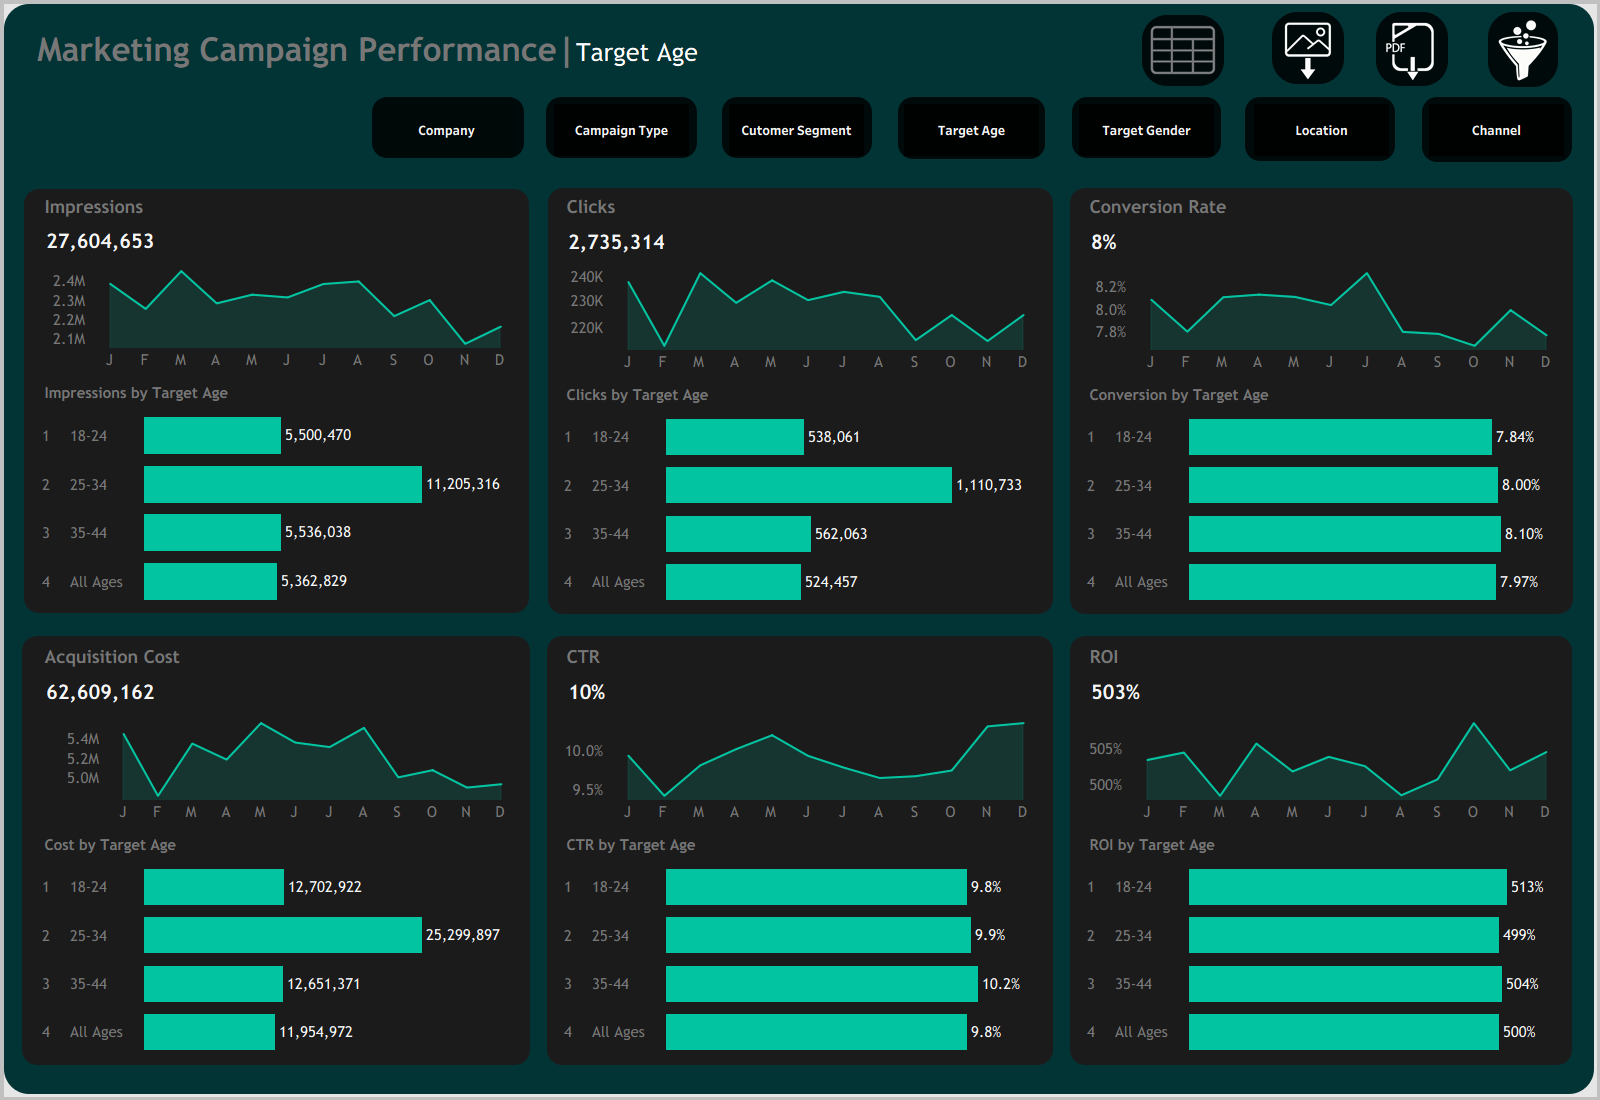

Layout of this report page (visuals, bound fields, positions):
{"tool":"tableau","page":{"name":"Target Age Page","canvas":[1600,1100],"ordinal":5},"visuals":[{"type":"worksheet","title":"Background Dashboard","mark":"Automatic","box":[0,0,1600,1100]},{"type":"blank","box":[0,0,1600,15]},{"type":"filter","title":"Clicks by Target Age","param":"[federated.1mnywug06xvtuc16vjv8v0i6xip0].[none:Channel_Used:nk]","box":[772,12,140.6,60]},{"type":"filter","title":"Clicks by Target Age","param":"[federated.1mnywug06xvtuc16vjv8v0i6xip0].[none:Company:nk]","box":[912.6,12,140.6,60]},{"type":"filter","title":"Clicks by Target Age","param":"[federated.1mnywug06xvtuc16vjv8v0i6xip0].[none:Calculation_1166370128986117:nk]","box":[1053.2,12,140.6,60]},{"type":"filter","title":"Clicks by Target Age","param":"[federated.1mnywug06xvtuc16vjv8v0i6xip0].[none:Target_Age:nk]","box":[1193.8,12,140.6,60]},{"type":"filter","title":"Clicks by Target Age","param":"[federated.1mnywug06xvtuc16vjv8v0i6xip0].[none:Target_Gender:nk]","box":[1334.4,12,140.6,60]},{"type":"text","box":[0,15,778,70]},{"type":"blank","box":[778,15,366,70]},{"type":"dashboard-object","box":[1144,15,77,70]},{"type":"blank","box":[1221,15,50,70]},{"type":"dashboard-object","box":[1271,15,73,70]},{"type":"blank","box":[1344,15,30,70]},{"type":"dashboard-object","box":[1374,15,70,70]},{"type":"blank","box":[1444,15,43,70]},{"type":"dashboard-object","box":[1487,15,70,70]},{"type":"blank","box":[1557,15,43,70]},{"type":"blank","box":[0,85,1600,15]},{"type":"blank","box":[0,90,4,207]},{"type":"dashboard-object","box":[4,90,39,35]},{"type":"text","box":[43,90,38,35]},{"type":"blank","box":[81,90,5,207]},{"type":"dashboard-object","box":[86,90,31,33]},{"type":"text","box":[117,90,161,33]},{"type":"blank","box":[278,90,5,207]},{"type":"dashboard-object","box":[283,90,30,33]},{"type":"text","box":[313,90,155,33]},{"type":"blank","box":[468,90,5,207]},{"type":"dashboard-object","box":[473,90,31,33]},{"type":"text","box":[504,90,119,33]},{"type":"blank","box":[623,90,5,207]},{"type":"dashboard-object","box":[628,90,31,33]},{"type":"text","box":[659.1,90,158,33]},{"type":"blank","box":[817.1,90,5,207]},{"type":"dashboard-object","box":[822.1,90,30,30]},{"type":"text","box":[852.1,90,144,30]},{"type":"blank","box":[996.1,90,5,207]},{"type":"dashboard-object","box":[1001.1,90,30,30]},{"type":"text","box":[1031.1,90,169,30]},{"type":"blank","box":[1200.1,90,5,207]},{"type":"dashboard-object","box":[1205.1,90,30,30]},{"type":"text","box":[1235.1,90,154,30]},{"type":"blank","box":[1389.1,90,5,207]},{"type":"dashboard-object","box":[1394.1,90,30,30]},{"type":"text","box":[1424.1,90,142,30]},{"type":"blank","box":[1566.1,90,30,207]},{"type":"blank","box":[0,100,343,60]},{"type":"blank","box":[343,100,32,60]},{"type":"dashboard-object","box":[375,100,143,60]},{"type":"blank","box":[518,100,32,60]},{"type":"dashboard-object","box":[550,100,143,60]},{"type":"blank","box":[693,100,32,60]},{"type":"dashboard-object","box":[725,100,143,60]},{"type":"blank","box":[868,100,32,60]},{"type":"dashboard-object","box":[900,100,143,60]},{"type":"blank","box":[1043,100,32,60]},{"type":"dashboard-object","box":[1075,100,143,60]},{"type":"blank","box":[1218,100,32,60]},{"type":"dashboard-object","box":[1250,100,143,60]},{"type":"blank","box":[1393,100,32,60]},{"type":"dashboard-object","box":[1425,100,143,60]},{"type":"blank","box":[1568,100,32,60]},{"type":"filter","title":"Detailed_Table","param":"[federated.1mnywug06xvtuc16vjv8v0i6xip0].[none:Channel_Used:nk]","box":[822.1,120,174,58]},{"type":"filter","title":"Detailed_Table","param":"[federated.1mnywug06xvtuc16vjv8v0i6xip0].[usr:Calculation_1851639007813637:qk]","box":[1001.1,120,199,51]},{"type":"filter","title":"Detailed_Table","param":"[federated.1mnywug06xvtuc16vjv8v0i6xip0].[usr:Calculation_1851639006334976:qk]","box":[1205.1,120,184,33]},{"type":"filter","title":"Detailed_Table","param":"[federated.1mnywug06xvtuc16vjv8v0i6xip0].[usr:Calculation_1851639007145986:qk]","box":[1394.1,120,172,51]},{"type":"filter","title":"Detailed_Table","param":"[federated.1mnywug06xvtuc16vjv8v0i6xip0].[none:Company:nk]","box":[86,123,192,58]},{"type":"filter","title":"Detailed_Table","param":"[federated.1mnywug06xvtuc16vjv8v0i6xip0].[none:Customer_Segment:nk]","box":[283,123,185,58]},{"type":"filter","title":"Detailed_Table","param":"[federated.1mnywug06xvtuc16vjv8v0i6xip0].[tdy:Date:qk]","box":[473,123,150,68]},{"type":"filter","title":"Detailed_Table","param":"[federated.1mnywug06xvtuc16vjv8v0i6xip0].[none:Calculation_1166370128986117:nk]","box":[628,123,189,58]},{"type":"filter","title":"Detailed_Table","param":"[federated.1mnywug06xvtuc16vjv8v0i6xip0].[none:Campaign_ID (Dim!Campaign):nk]","box":[4,125,77,35]},{"type":"blank","box":[0,160,32,932]},{"type":"blank","box":[32,160,490,32]},{"type":"blank","box":[522,160,32,932]},{"type":"blank","box":[554.1,160,490.9,32]},{"type":"blank","box":[1045,160,32,932]},{"type":"blank","box":[1077,160,490.9,32]},{"type":"blank","box":[1567.9,160,32,932]},{"type":"filter","title":"Detailed_Table","param":"[federated.1mnywug06xvtuc16vjv8v0i6xip0].[none:Campaign_Type:nk]","box":[86,181,192,58]},{"type":"filter","title":"Detailed_Table","param":"[federated.1mnywug06xvtuc16vjv8v0i6xip0].[none:Target_Age:nk]","box":[283,181,185,58]},{"type":"filter","title":"Detailed_Table","param":"[federated.1mnywug06xvtuc16vjv8v0i6xip0].[none:Location:nk]","box":[628,181,189,58]},{"type":"filter","title":"Detailed_Table","param":"[federated.1mnywug06xvtuc16vjv8v0i6xip0].[none:Weekday:nk]","box":[473,191,150,58]},{"type":"text","box":[32,192,490,29]},{"type":"text","box":[554.1,192,490.9,29]},{"type":"text","box":[1077,192,490.9,29]},{"type":"worksheet","title":"BAN Impressions","mark":"Automatic","box":[32,221,490,41]},{"type":"worksheet","title":"BAN Clicks","mark":"Automatic","box":[554.1,221,490.9,43]},{"type":"worksheet","title":"BAN Conversion","mark":"Automatic","box":[1077,221,490.9,43]},{"type":"filter","title":"Detailed_Table","param":"[federated.1mnywug06xvtuc16vjv8v0i6xip0].[none:Target_Gender:nk]","box":[283,239,185,58]},{"type":"worksheet","title":"Impressions by Year","mark":"Line","rows":["Calculation_1851639006334976","Calculation_1851639006334976"],"cols":["Date"],"box":[32,262,490,112]},{"type":"worksheet","title":"Clicks by Year","mark":"Line","rows":["Calculation_1851639006855169","Calculation_1851639006855169"],"cols":["Date"],"box":[554.1,264,490.9,112]},{"type":"worksheet","title":"Conversion by Year","mark":"Line","rows":["Calculation_1851639007629316","Calculation_1851639007629316"],"cols":["Date"],"box":[1077,264,490.9,112]},{"type":"worksheet","title":"Detailed_Table","mark":"Shape","rows":["Campaign_ID (Dim!Campaign)"],"cols":["Calculation_2238670781300739","Calculation_2238670781300739","Calculation_2238670781300739","Calculation_2238670781300739","Calculation_2238670781300739","Calculation_2238670781300739","Calculation_2238670781300739","Calculation_2238670781300739"],"box":[0,297,1600,803]},{"type":"worksheet","title":"Impressions by Target Age","mark":"Bar","rows":["Calculation_1166370116337667","Target_Age"],"cols":["Calculation_1851639006334976"],"box":[32,374,490,236]},{"type":"worksheet","title":"Clicks by Target Age","mark":"Bar","rows":["Calculation_1166370116337667","Target_Age"],"cols":["Calculation_1851639006855169"],"box":[554.1,376,490.9,234]},{"type":"worksheet","title":"Conversion by Target Age","mark":"Bar","rows":["Calculation_1166370116337667","Target_Age"],"cols":["Calculation_1851639007629316"],"box":[1077,376,490.9,234]},{"type":"blank","box":[32,610,490,32]},{"type":"blank","box":[554.1,610,490.9,32]},{"type":"blank","box":[1077,610,490.9,32]},{"type":"text","box":[32,642,490,29]},{"type":"text","box":[554.1,642,490.9,29]},{"type":"text","box":[1077,642,490.9,29]},{"type":"worksheet","title":"BAN Cost","mark":"Automatic","box":[32,671,490,43]},{"type":"worksheet","title":"BAN CTR","mark":"Automatic","box":[554.1,671,490.9,43]},{"type":"worksheet","title":"BAN ROI","mark":"Automatic","box":[1077,671,490.9,43]},{"type":"worksheet","title":"Cost by Year","mark":"Line","rows":["Calculation_1851639007813637","Calculation_1851639007813637"],"cols":["Date"],"box":[32,714,490,112]},{"type":"worksheet","title":"CTR by Year","mark":"Line","rows":["Calculation_1851639007145986","Calculation_1851639007145986"],"cols":["Date"],"box":[554.1,714,490.9,112]},{"type":"worksheet","title":"ROI by Year","mark":"Line","rows":["Calculation_1851639007985670","Calculation_1851639007985670"],"cols":["Date"],"box":[1077,714,490.9,112]},{"type":"worksheet","title":"Cost by Target Age","mark":"Bar","rows":["Calculation_1166370116337667","Target_Age"],"cols":["Calculation_1851639007813637"],"box":[32,826,490,234]},{"type":"worksheet","title":"CTR by Target Age","mark":"Bar","rows":["Calculation_1166370116337667","Target_Age"],"cols":["Calculation_1851639007145986"],"box":[554.1,826,490.9,234]},{"type":"worksheet","title":"ROI by Target Age","mark":"Bar","rows":["Calculation_1166370116337667","Target_Age"],"cols":["Calculation_1851639007985670"],"box":[1077,826,490.9,234]},{"type":"blank","box":[32,1060,490,32]},{"type":"blank","box":[554.1,1060,490.9,32]},{"type":"blank","box":[1077,1060,490.9,32]}]}

Visuals, with their boxes in screenshot pixels (x1, y1, x2, y2), scaled from the page's 1600x1100 canvas onto the 1600x1100 screenshot:
"Background Dashboard" worksheet: BBox(0, 0, 1599, 1099)
blank: BBox(0, 0, 1599, 15)
"Clicks by Target Age" filter: BBox(772, 12, 913, 72)
"Clicks by Target Age" filter: BBox(913, 12, 1053, 72)
"Clicks by Target Age" filter: BBox(1053, 12, 1194, 72)
"Clicks by Target Age" filter: BBox(1194, 12, 1334, 72)
"Clicks by Target Age" filter: BBox(1334, 12, 1475, 72)
text: BBox(0, 15, 778, 85)
blank: BBox(778, 15, 1144, 85)
dashboard-object: BBox(1144, 15, 1221, 85)
blank: BBox(1221, 15, 1271, 85)
dashboard-object: BBox(1271, 15, 1344, 85)
blank: BBox(1344, 15, 1374, 85)
dashboard-object: BBox(1374, 15, 1444, 85)
blank: BBox(1444, 15, 1487, 85)
dashboard-object: BBox(1487, 15, 1557, 85)
blank: BBox(1557, 15, 1599, 85)
blank: BBox(0, 85, 1599, 100)
blank: BBox(0, 90, 4, 297)
dashboard-object: BBox(4, 90, 43, 125)
text: BBox(43, 90, 81, 125)
blank: BBox(81, 90, 86, 297)
dashboard-object: BBox(86, 90, 117, 123)
text: BBox(117, 90, 278, 123)
blank: BBox(278, 90, 283, 297)
dashboard-object: BBox(283, 90, 313, 123)
text: BBox(313, 90, 468, 123)
blank: BBox(468, 90, 473, 297)
dashboard-object: BBox(473, 90, 504, 123)
text: BBox(504, 90, 623, 123)
blank: BBox(623, 90, 628, 297)
dashboard-object: BBox(628, 90, 659, 123)
text: BBox(659, 90, 817, 123)
blank: BBox(817, 90, 822, 297)
dashboard-object: BBox(822, 90, 852, 120)
text: BBox(852, 90, 996, 120)
blank: BBox(996, 90, 1001, 297)
dashboard-object: BBox(1001, 90, 1031, 120)
text: BBox(1031, 90, 1200, 120)
blank: BBox(1200, 90, 1205, 297)
dashboard-object: BBox(1205, 90, 1235, 120)
text: BBox(1235, 90, 1389, 120)
blank: BBox(1389, 90, 1394, 297)
dashboard-object: BBox(1394, 90, 1424, 120)
text: BBox(1424, 90, 1566, 120)
blank: BBox(1566, 90, 1596, 297)
blank: BBox(0, 100, 343, 160)
blank: BBox(343, 100, 375, 160)
dashboard-object: BBox(375, 100, 518, 160)
blank: BBox(518, 100, 550, 160)
dashboard-object: BBox(550, 100, 693, 160)
blank: BBox(693, 100, 725, 160)
dashboard-object: BBox(725, 100, 868, 160)
blank: BBox(868, 100, 900, 160)
dashboard-object: BBox(900, 100, 1043, 160)
blank: BBox(1043, 100, 1075, 160)
dashboard-object: BBox(1075, 100, 1218, 160)
blank: BBox(1218, 100, 1250, 160)
dashboard-object: BBox(1250, 100, 1393, 160)
blank: BBox(1393, 100, 1425, 160)
dashboard-object: BBox(1425, 100, 1568, 160)
blank: BBox(1568, 100, 1599, 160)
"Detailed_Table" filter: BBox(822, 120, 996, 178)
"Detailed_Table" filter: BBox(1001, 120, 1200, 171)
"Detailed_Table" filter: BBox(1205, 120, 1389, 153)
"Detailed_Table" filter: BBox(1394, 120, 1566, 171)
"Detailed_Table" filter: BBox(86, 123, 278, 181)
"Detailed_Table" filter: BBox(283, 123, 468, 181)
"Detailed_Table" filter: BBox(473, 123, 623, 191)
"Detailed_Table" filter: BBox(628, 123, 817, 181)
"Detailed_Table" filter: BBox(4, 125, 81, 160)
blank: BBox(0, 160, 32, 1092)
blank: BBox(32, 160, 522, 192)
blank: BBox(522, 160, 554, 1092)
blank: BBox(554, 160, 1045, 192)
blank: BBox(1045, 160, 1077, 1092)
blank: BBox(1077, 160, 1568, 192)
blank: BBox(1568, 160, 1599, 1092)
"Detailed_Table" filter: BBox(86, 181, 278, 239)
"Detailed_Table" filter: BBox(283, 181, 468, 239)
"Detailed_Table" filter: BBox(628, 181, 817, 239)
"Detailed_Table" filter: BBox(473, 191, 623, 249)
text: BBox(32, 192, 522, 221)
text: BBox(554, 192, 1045, 221)
text: BBox(1077, 192, 1568, 221)
"BAN Impressions" worksheet: BBox(32, 221, 522, 262)
"BAN Clicks" worksheet: BBox(554, 221, 1045, 264)
"BAN Conversion" worksheet: BBox(1077, 221, 1568, 264)
"Detailed_Table" filter: BBox(283, 239, 468, 297)
"Impressions by Year" worksheet (Line marks): BBox(32, 262, 522, 374)
"Clicks by Year" worksheet (Line marks): BBox(554, 264, 1045, 376)
"Conversion by Year" worksheet (Line marks): BBox(1077, 264, 1568, 376)
"Detailed_Table" worksheet (Shape marks): BBox(0, 297, 1599, 1099)
"Impressions by Target Age" worksheet (Bar marks): BBox(32, 374, 522, 610)
"Clicks by Target Age" worksheet (Bar marks): BBox(554, 376, 1045, 610)
"Conversion by Target Age" worksheet (Bar marks): BBox(1077, 376, 1568, 610)
blank: BBox(32, 610, 522, 642)
blank: BBox(554, 610, 1045, 642)
blank: BBox(1077, 610, 1568, 642)
text: BBox(32, 642, 522, 671)
text: BBox(554, 642, 1045, 671)
text: BBox(1077, 642, 1568, 671)
"BAN Cost" worksheet: BBox(32, 671, 522, 714)
"BAN CTR" worksheet: BBox(554, 671, 1045, 714)
"BAN ROI" worksheet: BBox(1077, 671, 1568, 714)
"Cost by Year" worksheet (Line marks): BBox(32, 714, 522, 826)
"CTR by Year" worksheet (Line marks): BBox(554, 714, 1045, 826)
"ROI by Year" worksheet (Line marks): BBox(1077, 714, 1568, 826)
"Cost by Target Age" worksheet (Bar marks): BBox(32, 826, 522, 1060)
"CTR by Target Age" worksheet (Bar marks): BBox(554, 826, 1045, 1060)
"ROI by Target Age" worksheet (Bar marks): BBox(1077, 826, 1568, 1060)
blank: BBox(32, 1060, 522, 1092)
blank: BBox(554, 1060, 1045, 1092)
blank: BBox(1077, 1060, 1568, 1092)
